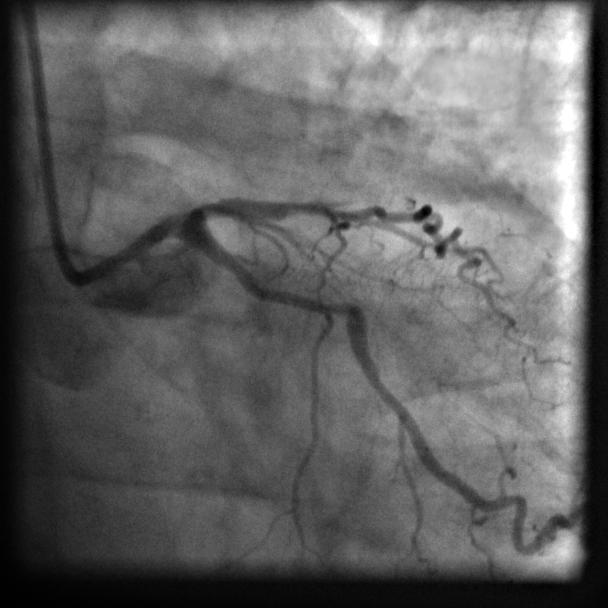Stenosis: (260, 279, 351, 329)
